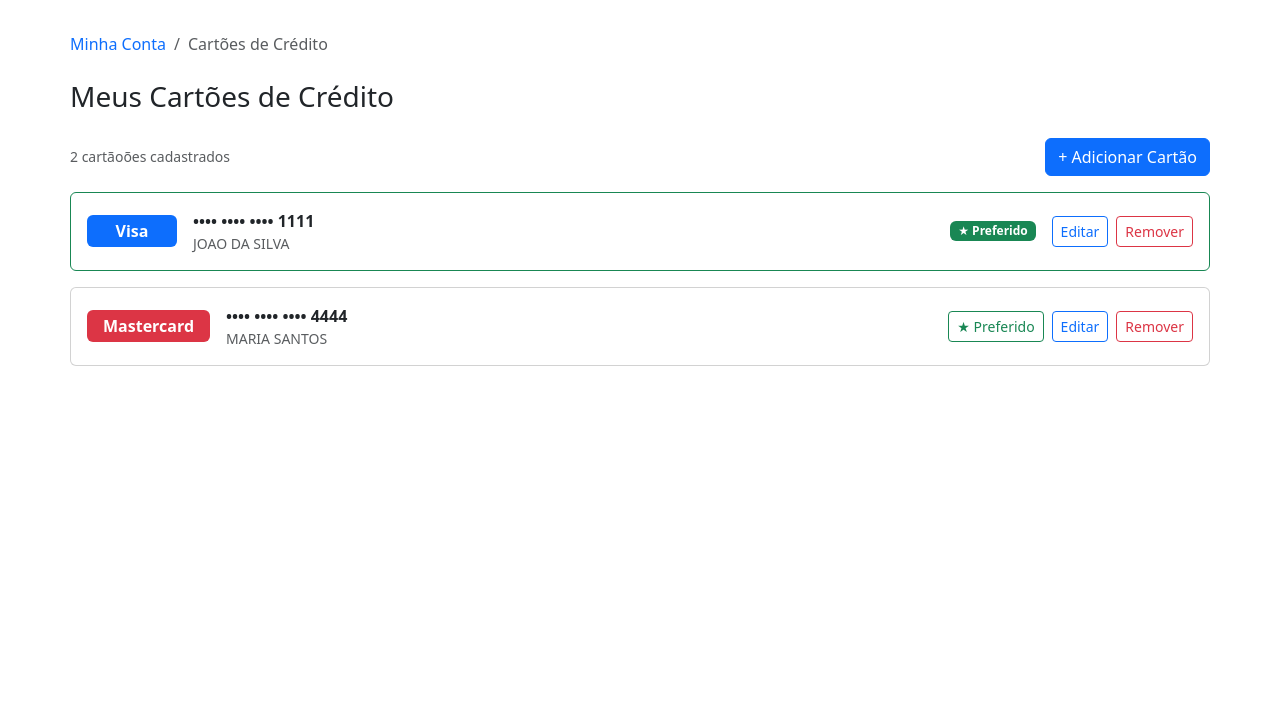
Scenario: CreditCardsPage - RF0027: Cadastro de cartões de crédito › should require card brand (RN0024)
Click the button with test id "credit-card-add-btn" at (1128, 157), box [1045,138,1210,176]
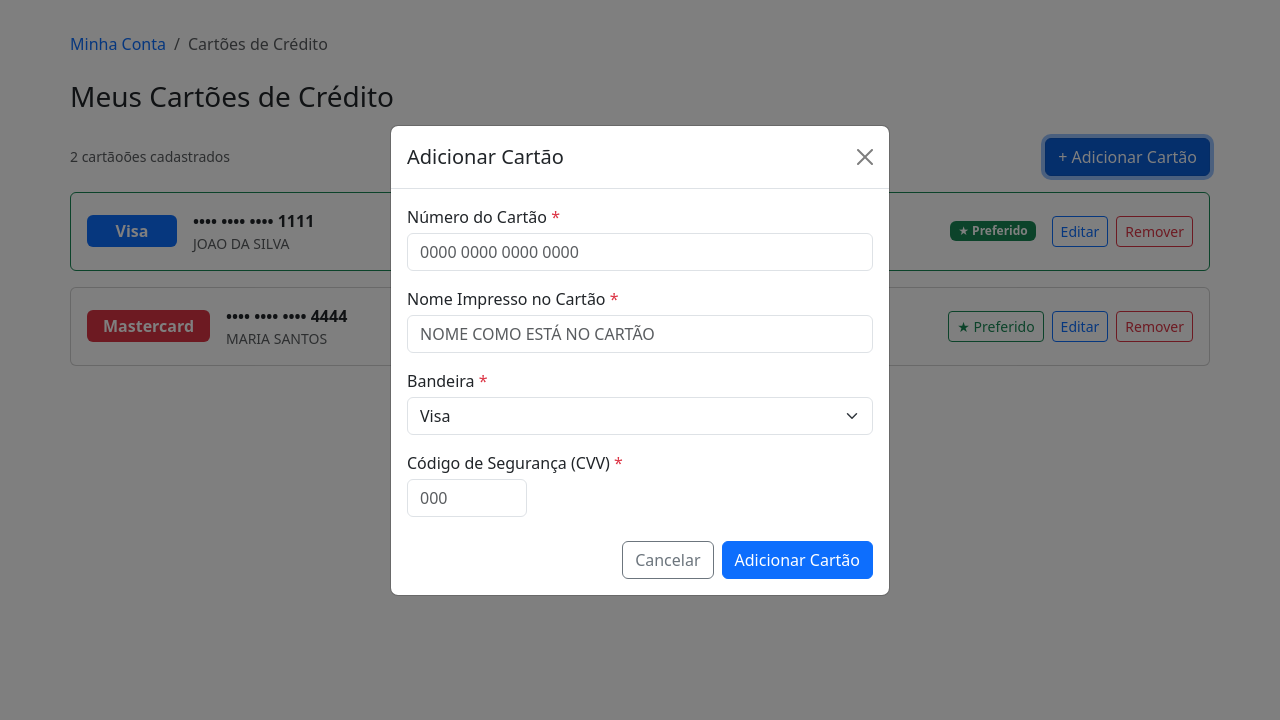
Result: the dialog with test id "credit-card-form-modal" is shown
Result: the dropdown with test id "credit-card-bandeira" shows "Visa" at [407,396,873,434]
